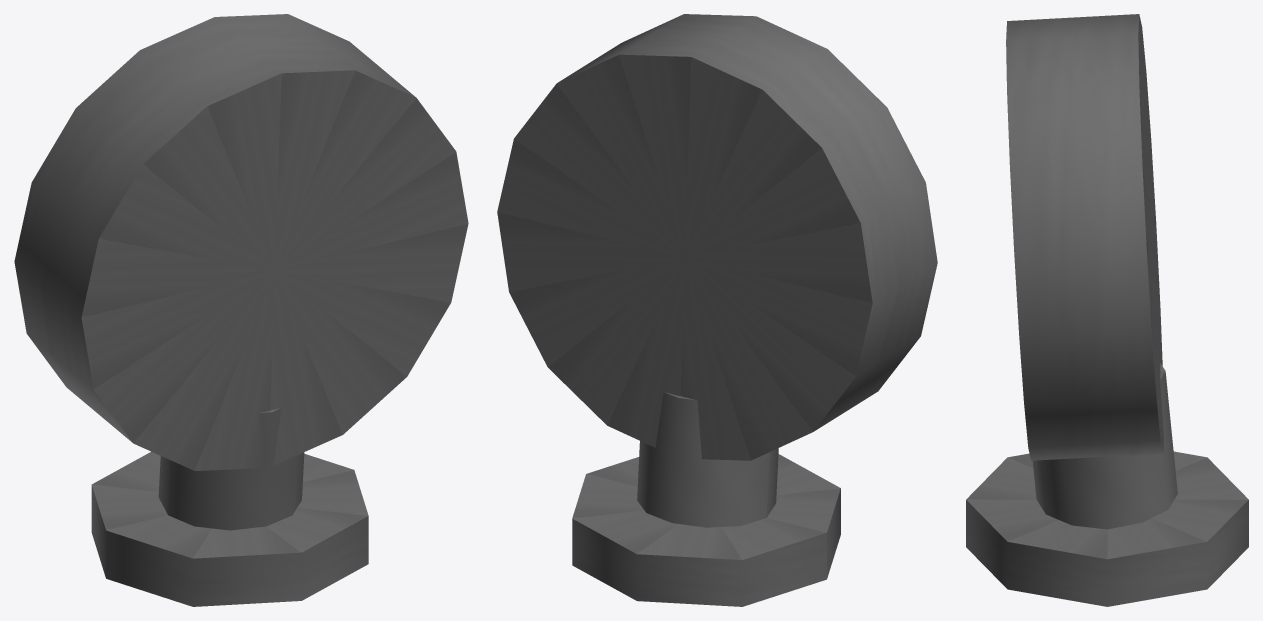
File: mastarmcurve_6x2_c7_down.obj
The picture shows the model from 3 angles, left to right: view 1: azimuth 30°, elevation 25°; view 2: azimuth 150°, elevation 25°; view 3: azimuth 270°, elevation 25°; orthographic projection. The views are drawn at different scales.
Parts seen in each view (by area): view 1: mastarm_6x2_c7_down; view 2: mastarm_6x2_c7_down; view 3: mastarm_6x2_c7_down.
Boxes of the visible parts, left/top/right/bottom form: mastarm_6x2_c7_down: left=14, top=14, right=468, bottom=606; mastarm_6x2_c7_down: left=497, top=14, right=937, bottom=606; mastarm_6x2_c7_down: left=966, top=14, right=1248, bottom=606.
Size of the model in its own units: 0.6236 by 0.8004 by 0.4.
